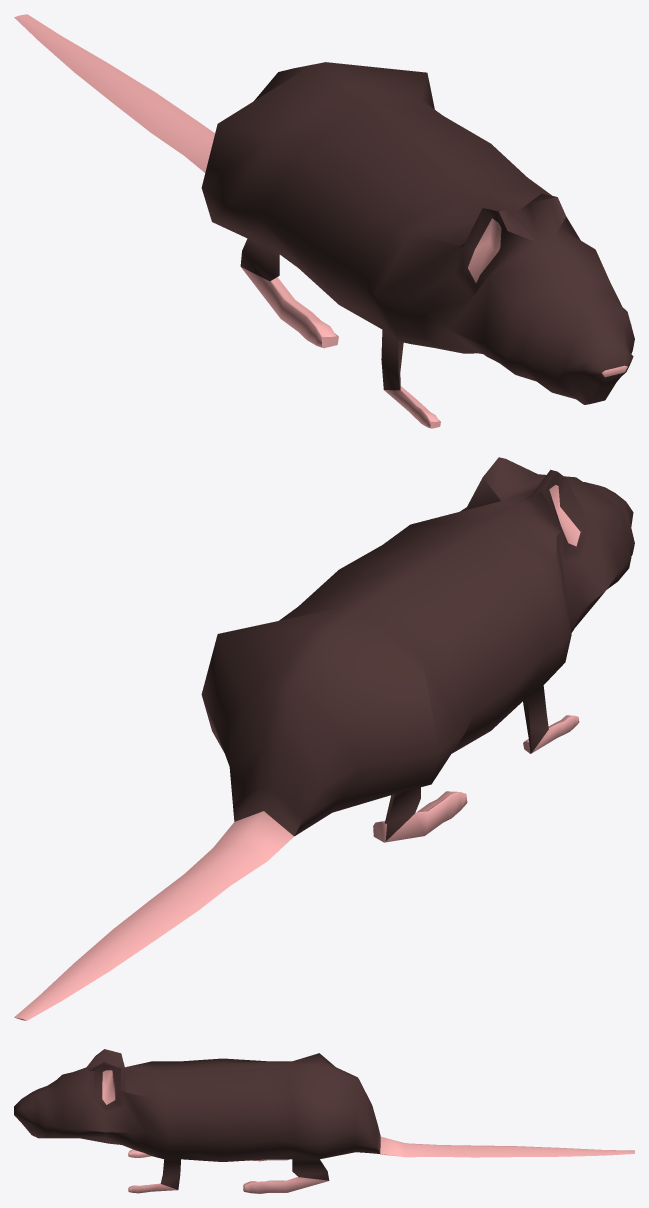
Rendered from rat2.fbx.
The picture shows the model from 3 angles, top to bottom: view 1: azimuth 30°, elevation 25°; view 2: azimuth 150°, elevation 25°; view 3: azimuth 270°, elevation 25°; orthographic projection. The views are drawn at different scales.
Parts seen in each view (by area): view 1: Rat; view 2: Rat; view 3: Rat.
Part boxes in pixels (box(x1,y1,x2,y2)): Rat: box(14, 14, 634, 428); Rat: box(14, 457, 634, 1020); Rat: box(14, 1049, 634, 1193).
Size of the model in its own units: 1.29 by 1.19 by 5.59.
